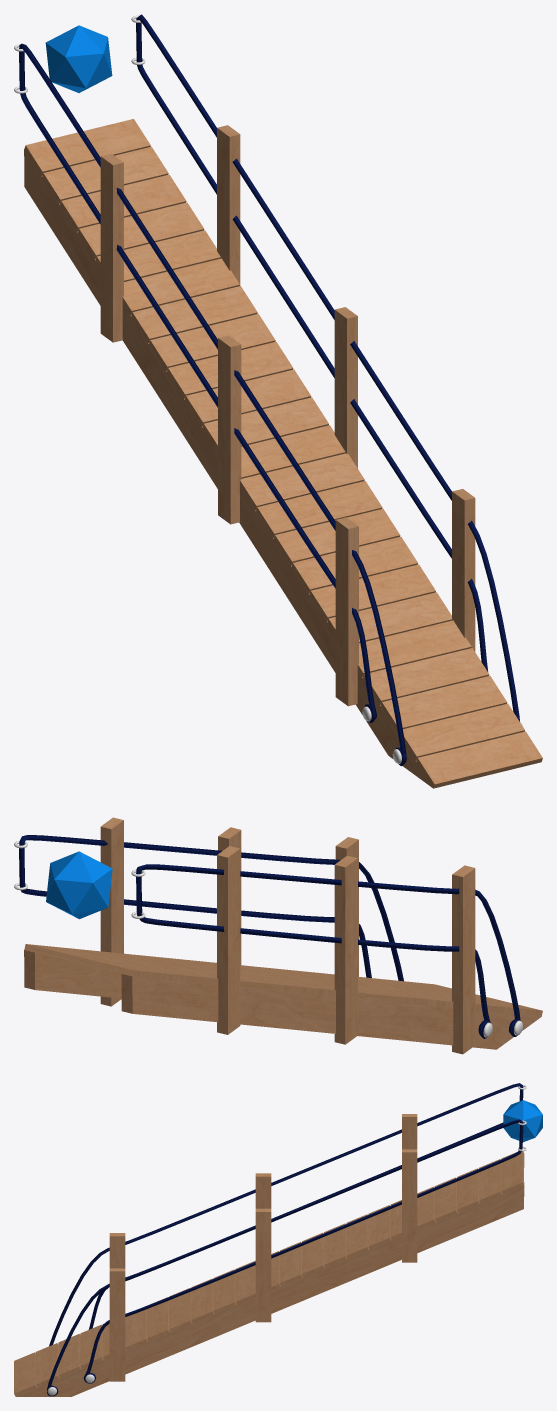
The model's file is Gang plank.glb.
The picture shows the model from 3 angles, top to bottom: view 1: azimuth 30°, elevation 25°; view 2: azimuth 150°, elevation 25°; view 3: azimuth 270°, elevation 25°; orthographic projection. The views are drawn at different scales.
Parts seen in each view (by area): view 1: Plane.033, Joint.006; view 2: Plane.033, Joint.006; view 3: Plane.033, Joint.006.
Part boxes in pixels (<box>): Plane.033: <box>14,14,542,788</box>; Joint.006: <box>45,25,112,92</box>; Plane.033: <box>14,817,542,1054</box>; Joint.006: <box>46,851,112,919</box>; Plane.033: <box>14,1083,526,1396</box>; Joint.006: <box>503,1100,542,1142</box>.
Size of the model in its own units: 0.6083 by 2.02 by 3.46.
4 materials, 2 textured.
